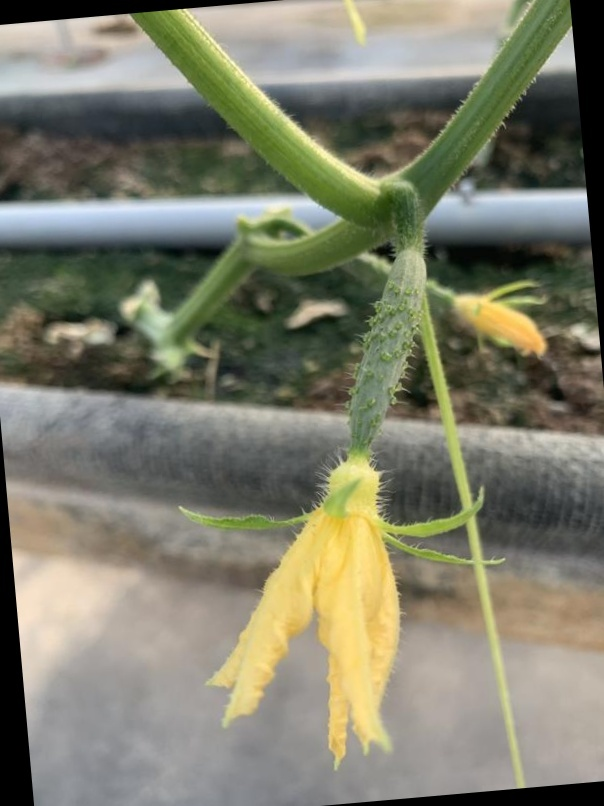bear: (177, 229, 470, 766)
